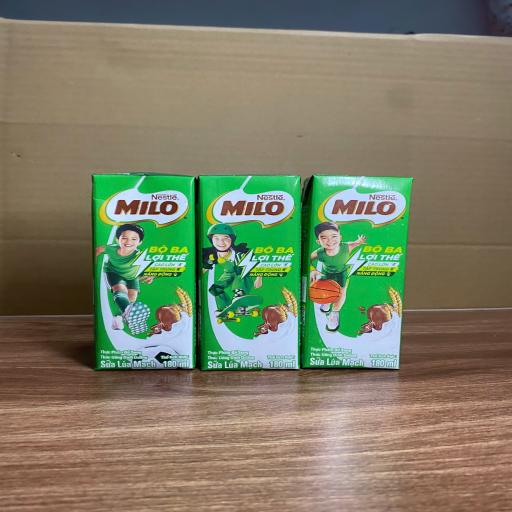milo: (89, 175, 196, 369), (197, 175, 302, 370), (304, 174, 408, 366)
